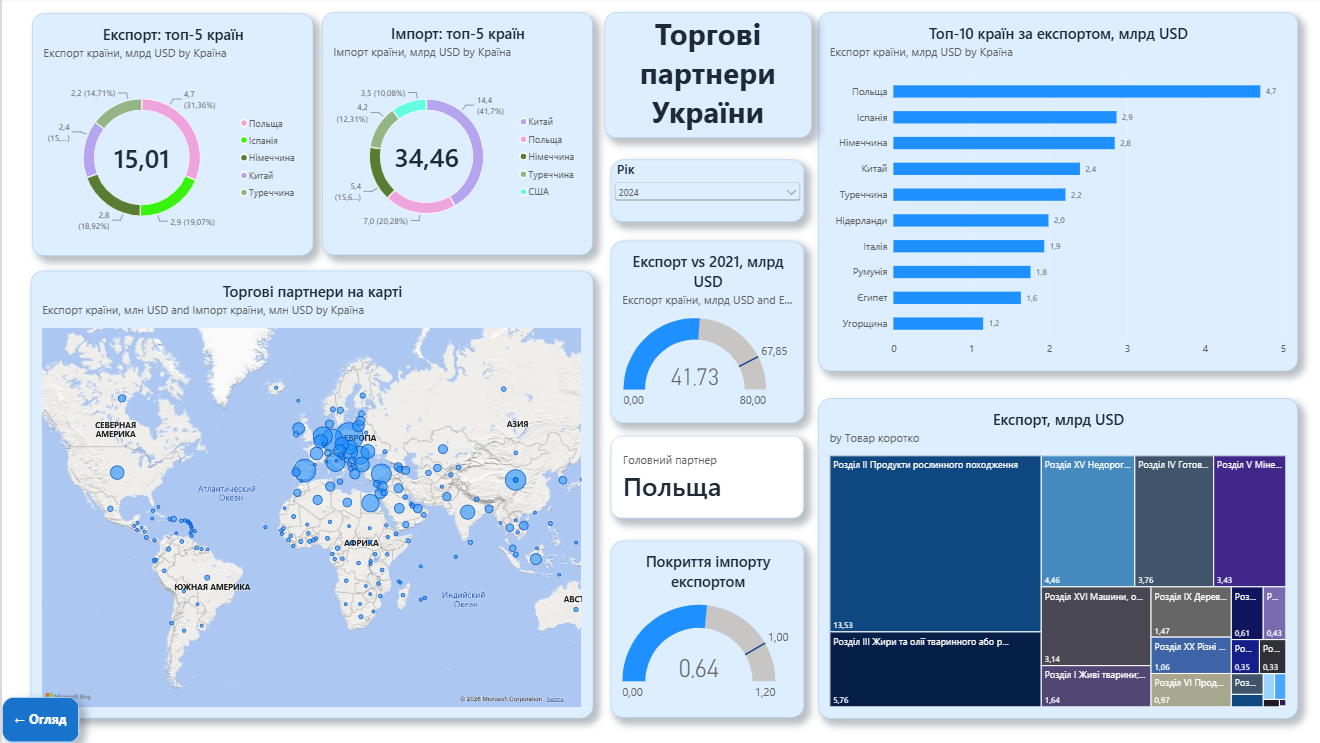

The dashboard page shown, as its layout file describes it:
{"tool":"powerbi","page":{"name":"Торгові партнери","canvas":[1920,1080],"ordinal":1},"visuals":[{"type":"gauge","fields":{"Y":["Trade.Покриття імпорту експортом"]},"box":[882,788,280,256],"z":0},{"type":"gauge","title":"Експорт vs 2021, млрд USD","fields":{"TargetValue":["Trade.Експорт 2021, млрд USD"],"Y":["Trade.Експорт країни, млрд USD"]},"box":[882,352,280,264],"z":1000},{"type":"map","title":"Торгові партнери на карті","fields":{"Category":["Trade.Країна"],"Size":["Trade.Експорт країни, млн USD"]},"box":[42,396,814,648],"z":2000},{"type":"barChart","title":"Топ-10 країн за експортом, млрд USD","fields":{"Category":["Trade.Країна"],"Y":["Trade.Експорт країни, млрд USD"]},"box":[1182,22,694,520],"z":3000},{"type":"treemap","fields":{"Group":["Trade.Товар коротко"],"Values":["Trade.Експорт, млрд USD"]},"box":[1182,580,694,464],"z":4000},{"type":"slicer","fields":{"Values":["Trade.Рік"]},"box":[882,236,280,90],"z":5000},{"type":"cardVisual","fields":{"Data":["Trade.Головний партнер"]},"box":[882,636,280,120],"z":6000},{"type":"donutChart","title":"Експорт: топ-5 країн","fields":{"Category":["Trade.Країна"],"Y":["Trade.Експорт країни, млрд USD"]},"box":[42.9,22.9,407.1,351.4],"z":7000},{"type":"donutChart","title":"Імпорт: топ-5 країн","fields":{"Category":["Trade.Країна"],"Y":["Trade.Імпорт країни, млрд USD"]},"box":[464,22,392,352],"z":8000},{"type":"textbox","box":[872,22,300,182],"z":9000},{"type":"actionButton","box":[0,1014,112,66],"z":10000}]}

Visuals, with their boxes in screenshot pixels (x1, y1, x2, y2), scaled from the page's 1920x1080 canvas onto the 1320x743 screenshot:
gauge - Trade.Покриття імпорту експортом: locate(606, 542, 799, 718)
"Експорт vs 2021, млрд USD" gauge: locate(606, 242, 799, 424)
"Торгові партнери на карті" map: locate(29, 272, 588, 718)
"Топ-10 країн за експортом, млрд USD" barChart: locate(813, 15, 1290, 373)
treemap - Trade.Товар коротко x Trade.Експорт, млрд USD: locate(813, 399, 1290, 718)
slicer - Trade.Рік: locate(606, 162, 799, 224)
cardVisual - Trade.Головний партнер: locate(606, 438, 799, 520)
"Експорт: топ-5 країн" donutChart: locate(29, 16, 309, 258)
"Імпорт: топ-5 країн" donutChart: locate(319, 15, 588, 257)
textbox: locate(600, 15, 806, 140)
actionButton: locate(0, 698, 77, 742)
